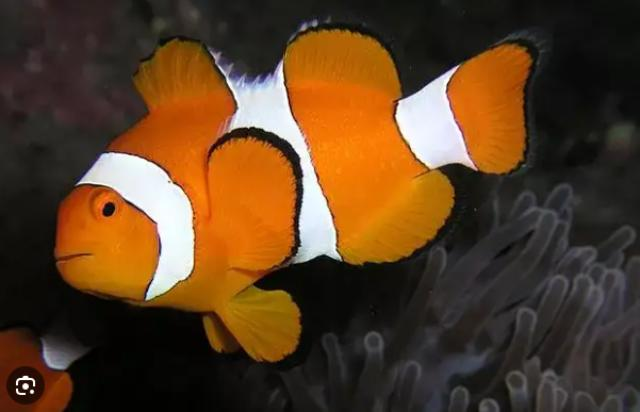Mulut: (36, 228, 100, 290)
Sirip Anal: (324, 164, 472, 278)
Sirip Dada: (187, 117, 313, 278)
Sirip Ekor: (432, 10, 550, 196)
Sirip Perut: (180, 270, 320, 390)
Sirip Punggung: (110, 8, 418, 118)
